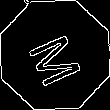M_NE: (23, 24, 87, 86)
